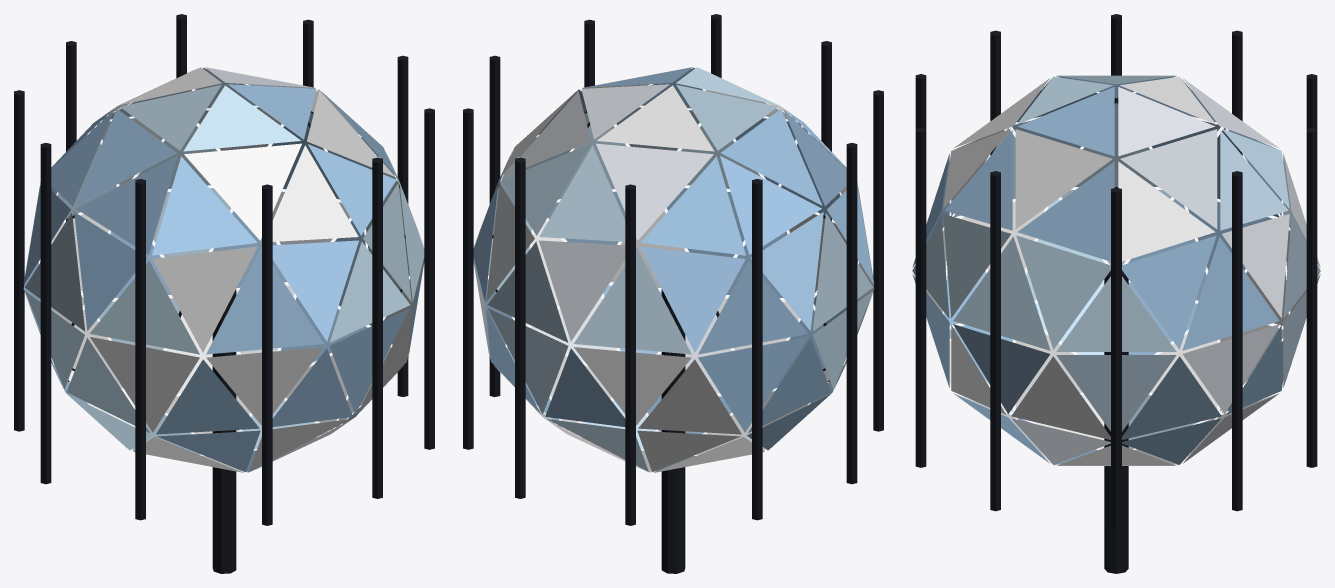
The model's file is crystal.glb.
3 renders of one model, left to right at view 1: azimuth 30°, elevation 25°; view 2: azimuth 150°, elevation 25°; view 3: azimuth 270°, elevation 25°, orthographic.
Visible parts, largest first — view 1: CrystalBall; view 2: CrystalBall; view 3: CrystalBall.
Part boxes in pixels (x1,y1,x2,y2): CrystalBall: (14, 14, 434, 573); CrystalBall: (463, 14, 883, 573); CrystalBall: (912, 14, 1320, 573).
Bounding box in the file's own units: 2.06 × 2.6 × 1.99.
Materials: 2 (2 with a texture image).
